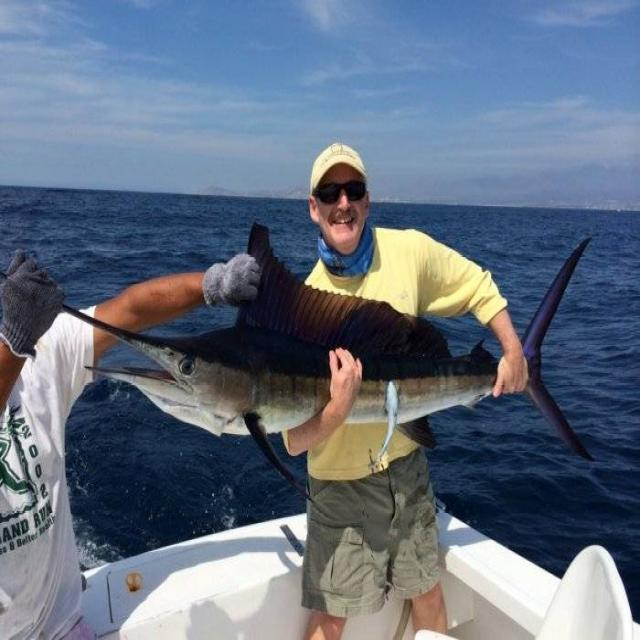Liberacion no segura: (1, 221, 596, 506)
